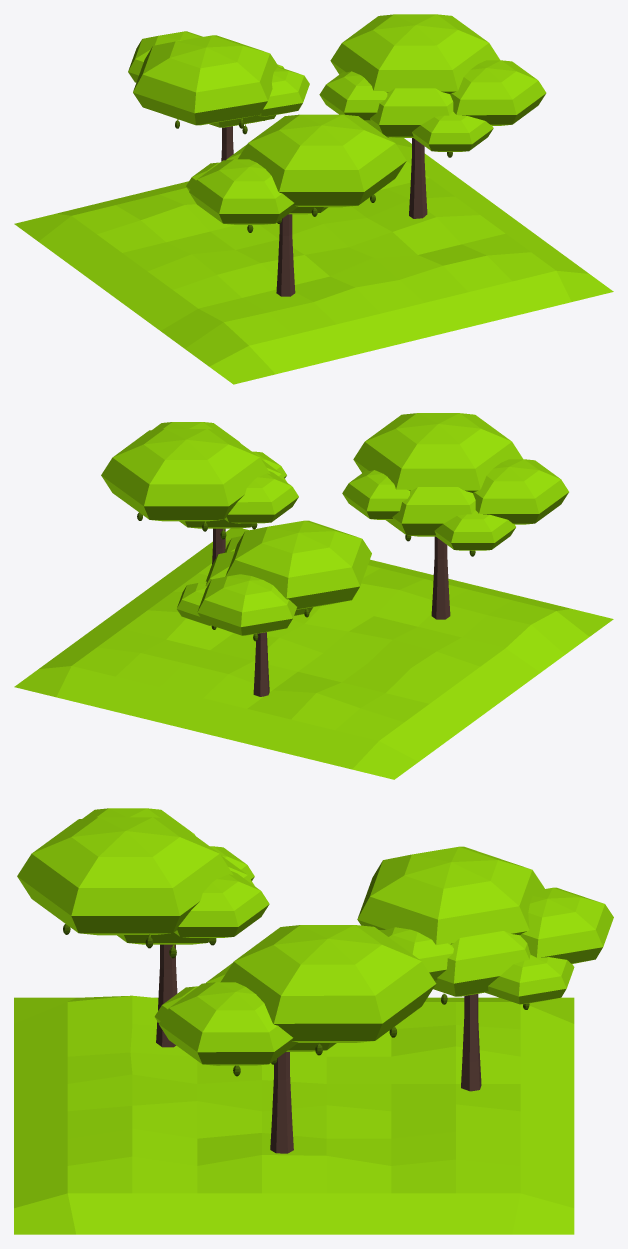
Rendered from MangoFarm.fbx.
3 views of the same model, one above another, from view 1: azimuth 30°, elevation 25°; view 2: azimuth 150°, elevation 25°; view 3: azimuth 270°, elevation 25° (orthographic). The views are drawn at different scales.
Visible parts, largest first — view 1: Plane.011; view 2: Plane.011; view 3: Plane.011.
Part boxes in pixels (left/top/right/bottom): Plane.011: left=14, top=14, right=613, bottom=384; Plane.011: left=14, top=413, right=613, bottom=779; Plane.011: left=14, top=808, right=613, bottom=1234.
Size of the model in its own units: 2486 by 1204 by 2631.
